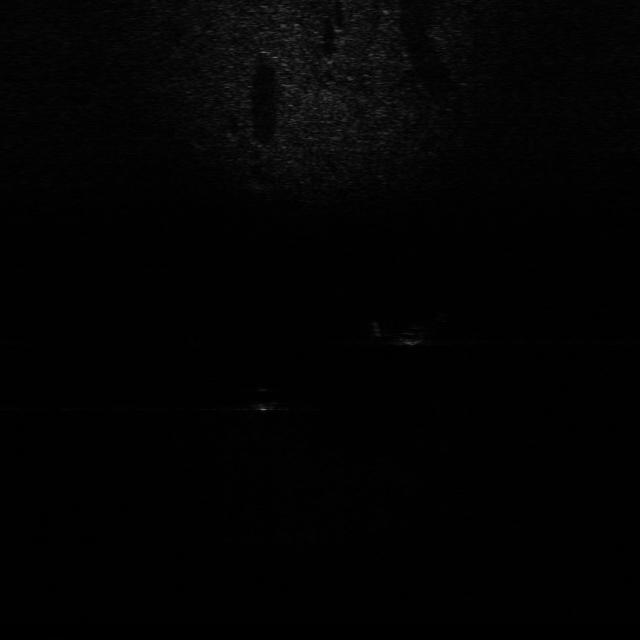ball: (250, 387, 284, 418)
human body: (366, 311, 448, 349)
